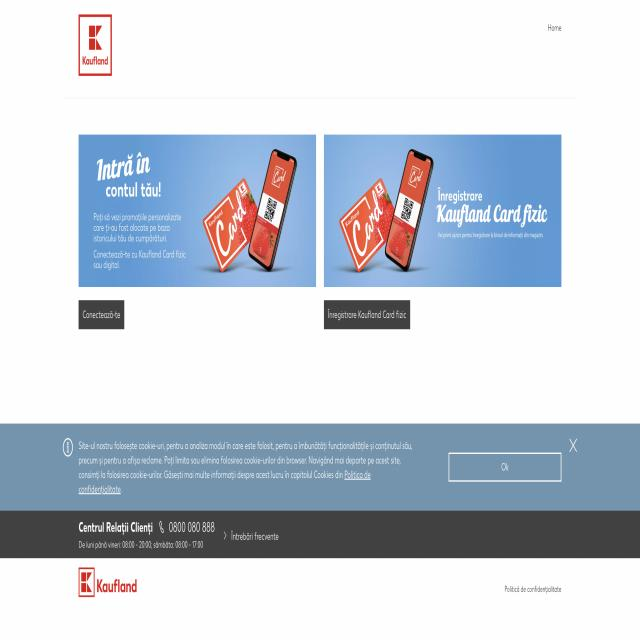Logo: (79, 9, 113, 81)
